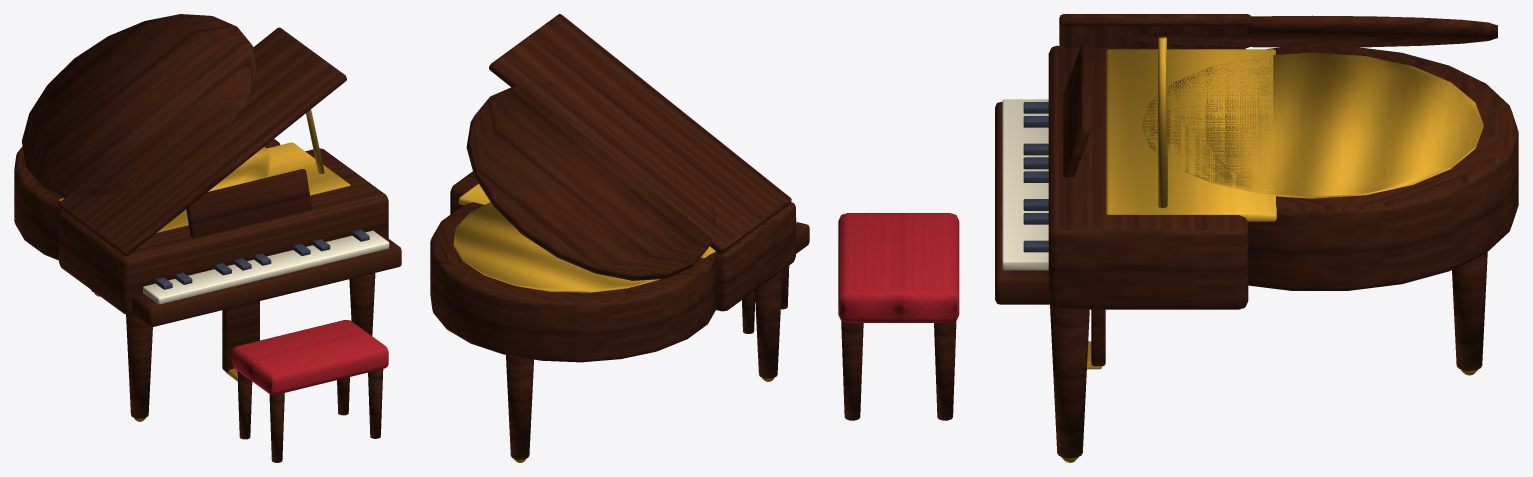
The model's file is h_prop_piano.glb.
The picture shows the model from 3 angles, left to right: view 1: azimuth 30°, elevation 25°; view 2: azimuth 150°, elevation 25°; view 3: azimuth 270°, elevation 25°; orthographic projection. The views are drawn at different scales.
Parts seen in each view (by area): view 1: PnoLidTail, PnoLidRect, PnoFrontCase, PnoBenchSeat, PnoKeybed, PnoMusicDesk, PnoWhiteKeys, PnoTailCurve, PnoLeg_-0.52, PnoSoundboard, PnoLyre, PnoLeg_0.52 (+6 smaller); view 2: PnoLidTail, PnoLidRect, PnoTailCurve, PnoSoundTail, PnoFrontCase, PnoLeg_-0.06, PnoLeg_-0.52, PnoBenchLeg_-0.23_-0.79, PnoSoundboard; view 3: PnoSoundTail, PnoTailCurve, PnoFrontCase, PnoSoundboard, PnoBenchSeat, PnoLidTail, PnoWhiteKeys, PnoLidRect, PnoLeg_0.52, PnoLeg_-0.06, PnoKeybed, PnoMusicDesk (+4 smaller).
Part boxes in pixels (<box>): PnoLidTail: <box>21,14,255,198</box>; PnoLidRect: <box>58,27,346,256</box>; PnoFrontCase: <box>59,148,388,314</box>; PnoBenchSeat: <box>232,320,388,394</box>; PnoKeybed: <box>132,234,401,326</box>; PnoMusicDesk: <box>186,169,311,237</box>; PnoWhiteKeys: <box>143,230,389,304</box>; PnoTailCurve: <box>14,139,280,260</box>; PnoLeg_-0.52: <box>126,314,152,418</box>; PnoSoundboard: <box>59,142,350,232</box>; PnoLyre: <box>222,301,259,371</box>; PnoLeg_0.52: <box>349,273,375,335</box>; PnoLidTail: <box>466,83,715,280</box>; PnoLidRect: <box>489,14,791,253</box>; PnoTailCurve: <box>430,202,716,362</box>; PnoSoundTail: <box>453,202,659,292</box>; PnoFrontCase: <box>450,171,795,311</box>; PnoLeg_-0.06: <box>506,355,533,459</box>; PnoLeg_-0.52: <box>755,270,782,378</box>; PnoBenchLeg_-0.23_-0.79: <box>742,291,755,333</box>; PnoSoundboard: <box>458,183,715,258</box>; PnoSoundTail: <box>1142,52,1483,198</box>; PnoTailCurve: <box>1248,47,1518,290</box>; PnoFrontCase: <box>1048,45,1248,309</box>; PnoSoundboard: <box>1106,49,1276,221</box>; PnoBenchSeat: <box>838,213,959,322</box>; PnoLidTail: <box>1128,15,1497,47</box>; PnoWhiteKeys: <box>1002,99,1048,270</box>; PnoLidRect: <box>1059,14,1251,47</box>; PnoLeg_0.52: <box>1050,305,1089,458</box>; PnoLeg_-0.06: <box>1452,252,1487,370</box>; PnoKeybed: <box>995,102,1049,304</box>; PnoMusicDesk: <box>1063,44,1090,177</box>.
Bounding box in the file's own units: 1.24 × 1.34 × 1.91.
Materials: 5 (4 with a texture image).
